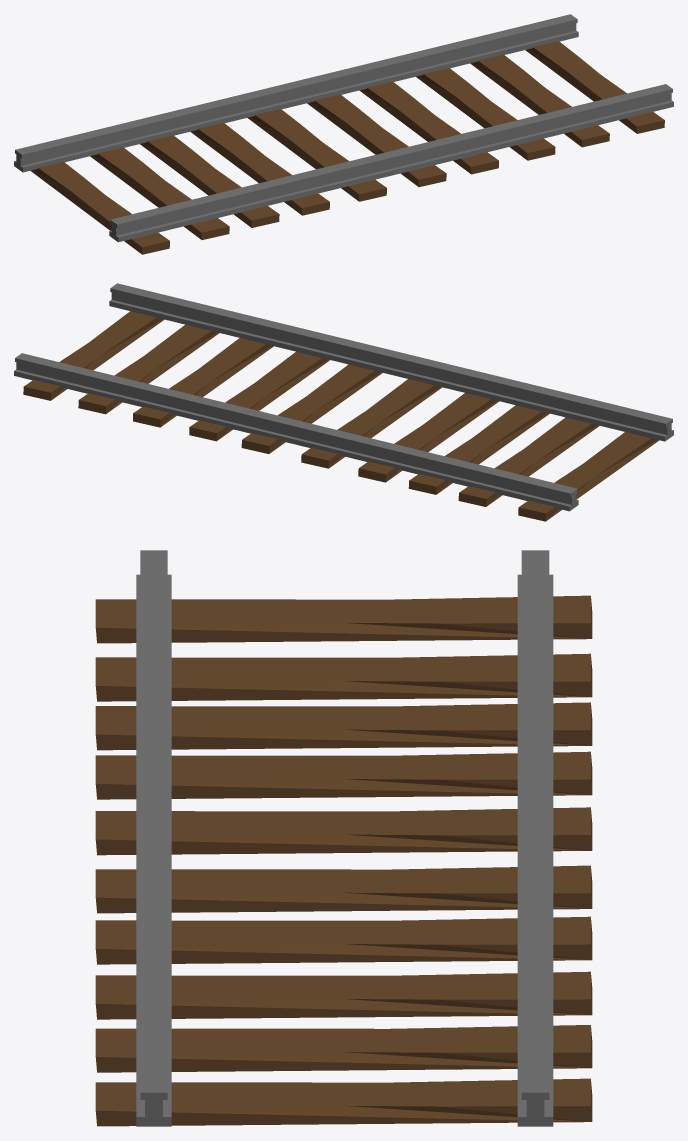
The model's file is Mine_Rail_Track_Straight_01.fbx.
3 views of the same model, one above another, from view 1: azimuth 30°, elevation 25°; view 2: azimuth 150°, elevation 25°; view 3: azimuth 270°, elevation 25° (orthographic). The views are drawn at different scales.
Visible parts, largest first — view 1: Mine_Rail_Track_Straight_01; view 2: Mine_Rail_Track_Straight_01; view 3: Mine_Rail_Track_Straight_01.
Part boxes in pixels (box(x1,y1,x2,y2)): Mine_Rail_Track_Straight_01: box(14, 14, 673, 254); Mine_Rail_Track_Straight_01: box(14, 283, 673, 521); Mine_Rail_Track_Straight_01: box(95, 550, 592, 1126).
Bounding box in the file's own units: 98.35 × 4.43 × 38.05.
